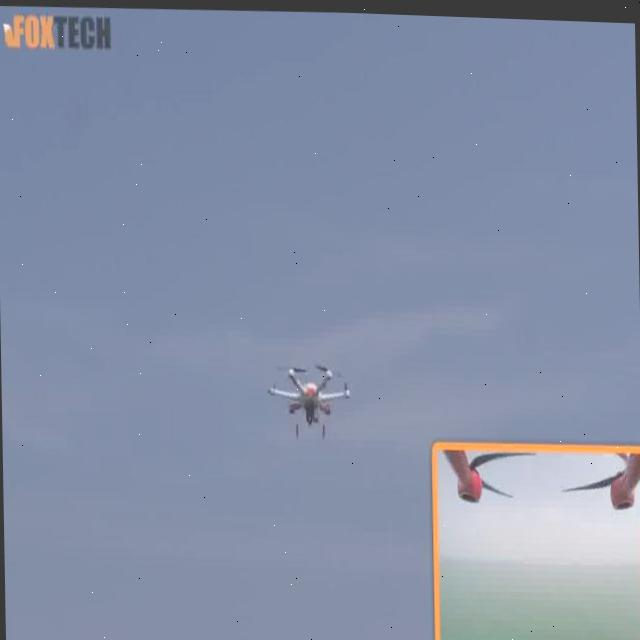drone: (268, 355, 360, 446)
